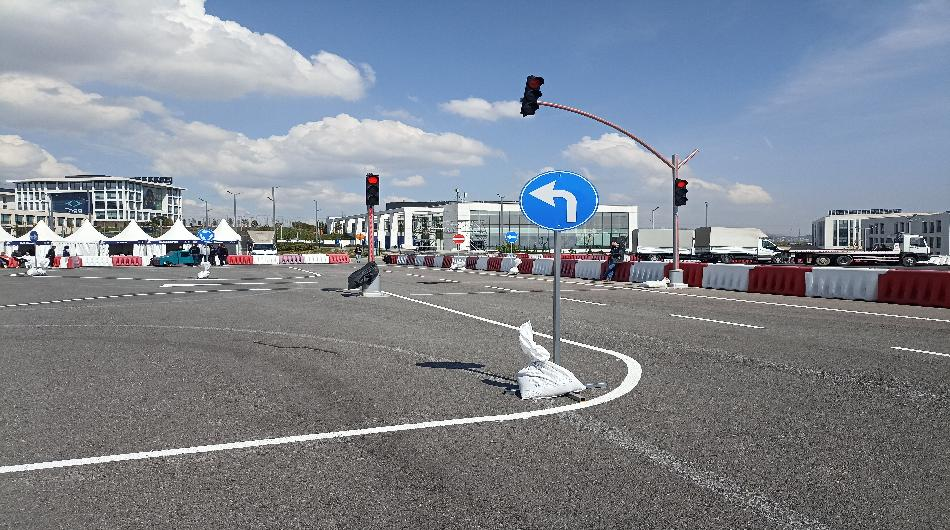ada: (194, 226, 222, 243)
girilmez: (458, 239, 468, 246)
red_light: (361, 171, 384, 205), (671, 175, 692, 210)
saga_mecburi_1: (503, 228, 522, 248)
sola_mecburi_2: (518, 168, 599, 227)
